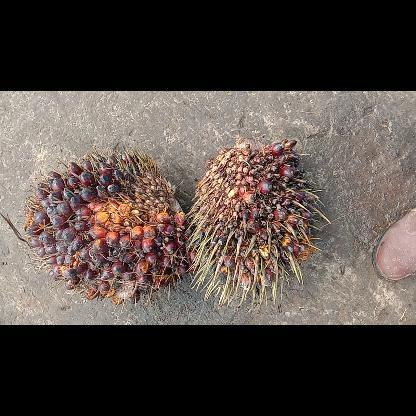Kurang masak: (26, 146, 196, 306)
TBS abnormal: (186, 137, 328, 309)
